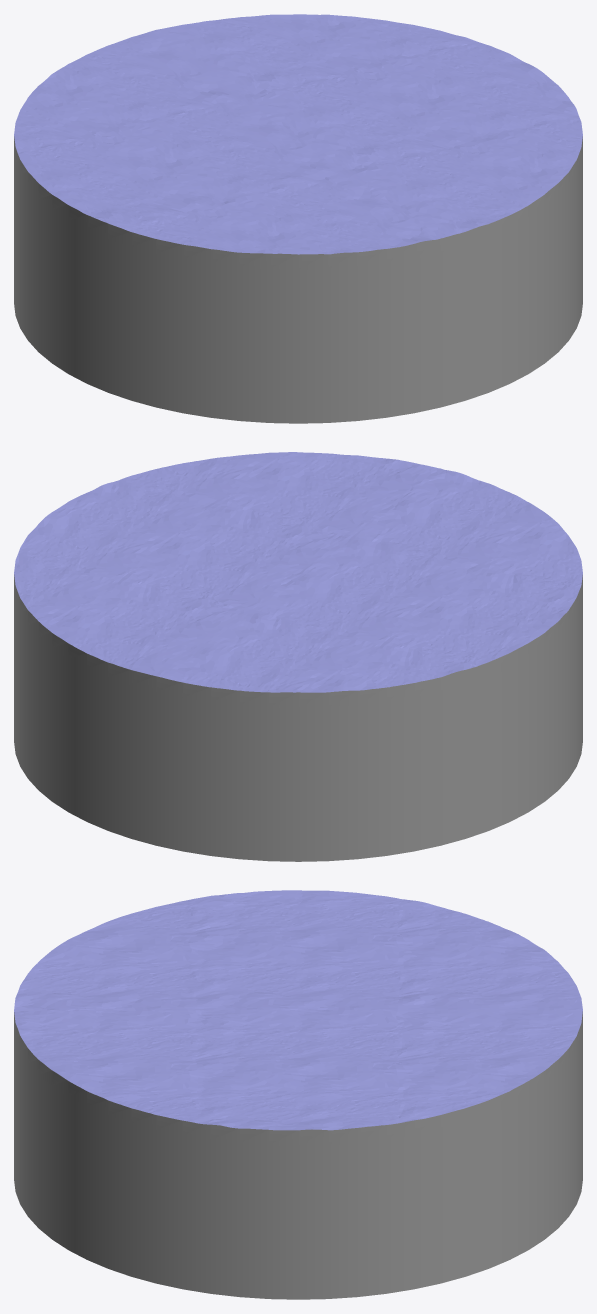
File: ocean_sample_B_50k.fbx
The picture shows the model from 3 angles, top to bottom: view 1: azimuth 30°, elevation 25°; view 2: azimuth 150°, elevation 25°; view 3: azimuth 270°, elevation 25°; orthographic projection.
Visible parts, largest first — view 1: ocean_sample_B_50k_top, ocean_sample_B_50k_bottom; view 2: ocean_sample_B_50k_top, ocean_sample_B_50k_bottom; view 3: ocean_sample_B_50k_top, ocean_sample_B_50k_bottom.
Part boxes in pixels (left/top/right/bottom): ocean_sample_B_50k_top: left=14, top=14, right=582, bottom=269; ocean_sample_B_50k_bottom: left=14, top=151, right=582, bottom=423; ocean_sample_B_50k_top: left=14, top=452, right=582, bottom=708; ocean_sample_B_50k_bottom: left=14, top=589, right=582, bottom=861; ocean_sample_B_50k_top: left=14, top=890, right=582, bottom=1145; ocean_sample_B_50k_bottom: left=14, top=1027, right=582, bottom=1299.
Bounding box in the file's own units: 5489 × 1810 × 5489.
